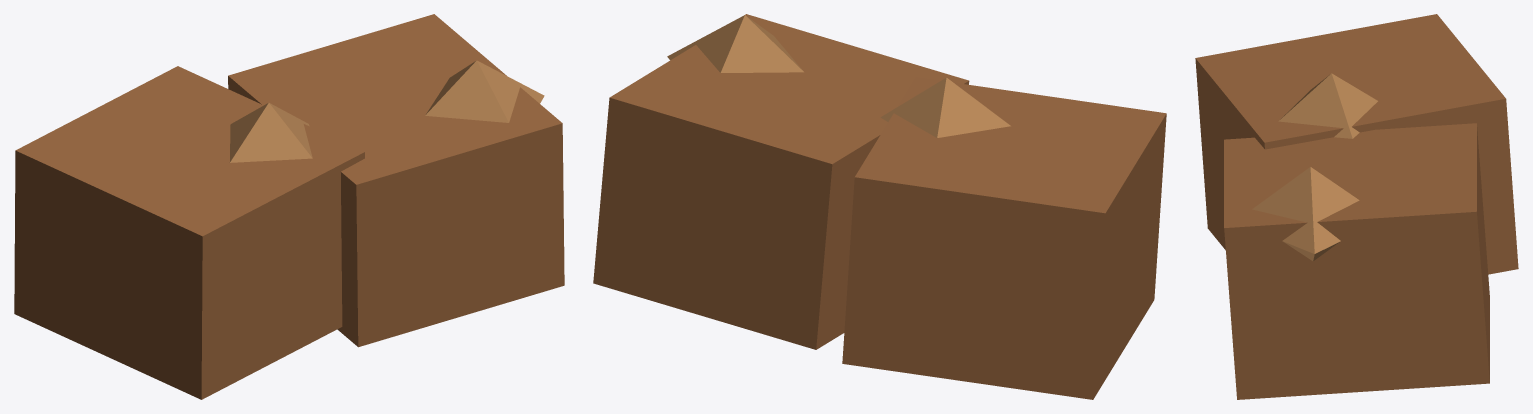
Rendered from pile-soil-2.gltf.
3 views of the same model, side by side, from view 1: azimuth 30°, elevation 25°; view 2: azimuth 150°, elevation 25°; view 3: azimuth 270°, elevation 25° (orthographic). The views are drawn at different scales.
Parts seen in each view (by area): view 1: pile-soil-2; view 2: pile-soil-2; view 3: pile-soil-2.
Boxes of the visible parts, box(x1,y1,x2,y2) form: pile-soil-2: box(14, 14, 564, 399); pile-soil-2: box(593, 14, 1166, 399); pile-soil-2: box(1195, 14, 1518, 399).
Size of the model in its own units: 0.6336 by 0.2874 by 0.3827.
